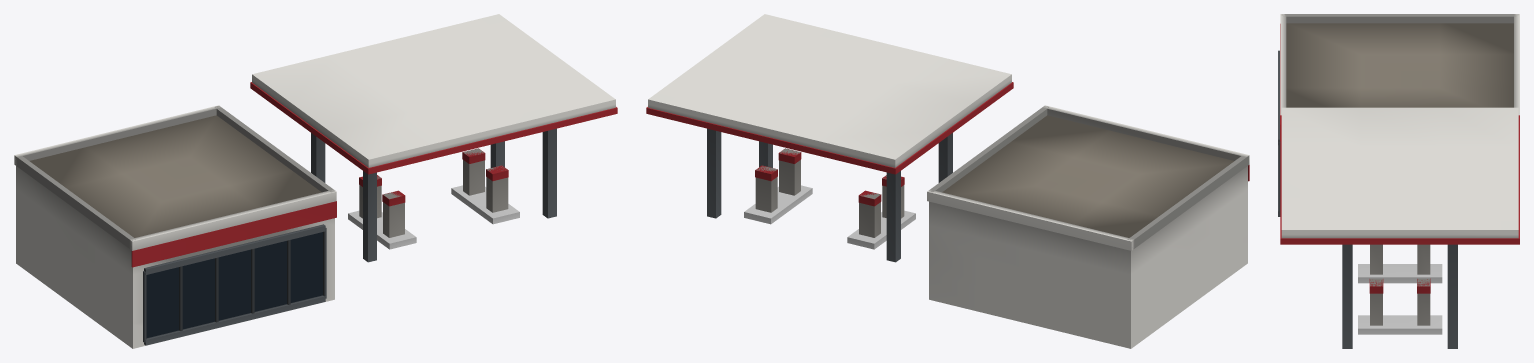
File: estacion-DFjNMMP_.glb
The picture shows the model from 3 angles, left to right: view 1: azimuth 30°, elevation 25°; view 2: azimuth 150°, elevation 25°; view 3: azimuth 270°, elevation 25°; orthographic projection.
Visible parts, largest first — view 1: pieza.016, pieza.001, pieza, pieza.006, pieza.015, pieza.017, pieza.002, pieza.003, pieza.004, pieza.014, pieza.013, pieza.005 (+8 smaller); view 2: pieza, pieza.016, pieza.001, pieza.017, pieza.003, pieza.002, pieza.004, pieza.005, pieza.019, pieza.021, pieza.027, pieza.030 (+4 smaller); view 3: pieza.016, pieza.001, pieza.004, pieza.017, pieza.027, pieza.022, pieza.020, pieza.021, pieza.002, pieza.030, pieza.003, pieza.028 (+3 smaller).
Boxes of the visible parts, x1,y1,x2,y2 form: pieza.016: (252, 14, 615, 167); pieza.001: (29, 115, 321, 237); pieza: (16, 166, 334, 348); pieza.006: (146, 232, 322, 337); pieza.015: (131, 201, 336, 267); pieza.017: (250, 82, 617, 174); pieza.002: (129, 189, 336, 250); pieza.003: (14, 105, 221, 166); pieza.004: (15, 156, 135, 248); pieza.014: (144, 224, 325, 274); pieza.013: (144, 295, 325, 345); pieza.005: (214, 105, 334, 192); pieza: (929, 166, 1247, 348); pieza.016: (648, 14, 1011, 167); pieza.001: (942, 115, 1234, 237); pieza.017: (646, 82, 1013, 174); pieza.003: (927, 189, 1134, 250); pieza.002: (1042, 105, 1249, 164); pieza.004: (1127, 156, 1248, 248); pieza.005: (929, 106, 1048, 192); pieza.019: (886, 171, 900, 262); pieza.021: (707, 128, 721, 218); pieza.027: (744, 185, 812, 224); pieza.030: (755, 166, 777, 212); pieza.016: (1281, 107, 1518, 238); pieza.001: (1286, 23, 1513, 107); pieza.004: (1282, 14, 1518, 23); pieza.017: (1280, 115, 1519, 244); pieza.027: (1358, 315, 1442, 334); pieza.022: (1358, 264, 1442, 283); pieza.020: (1342, 244, 1352, 348); pieza.021: (1447, 244, 1457, 348); pieza.002: (1280, 14, 1286, 115); pieza.030: (1417, 278, 1430, 325); pieza.003: (1514, 14, 1519, 115); pieza.028: (1370, 278, 1382, 325).
Bounding box in the file's own units: 21.6 × 5.6 × 9.19.
